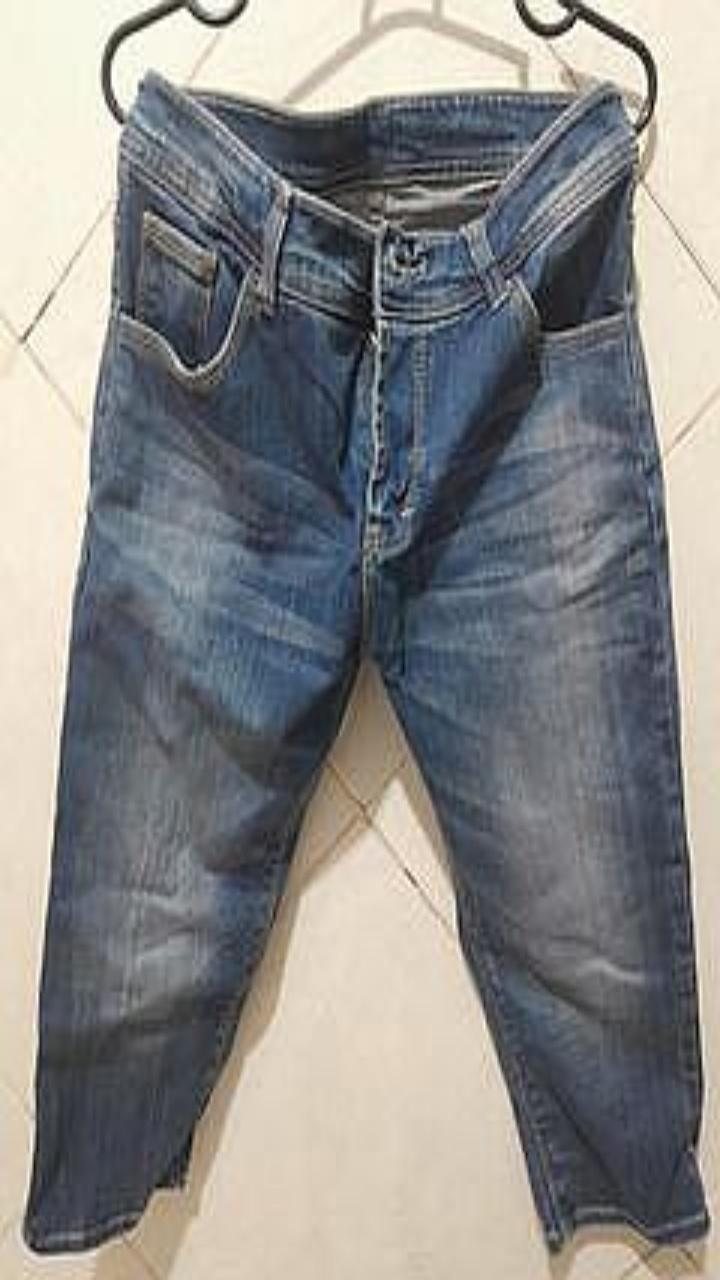Jeans: (23, 69, 708, 1251)
